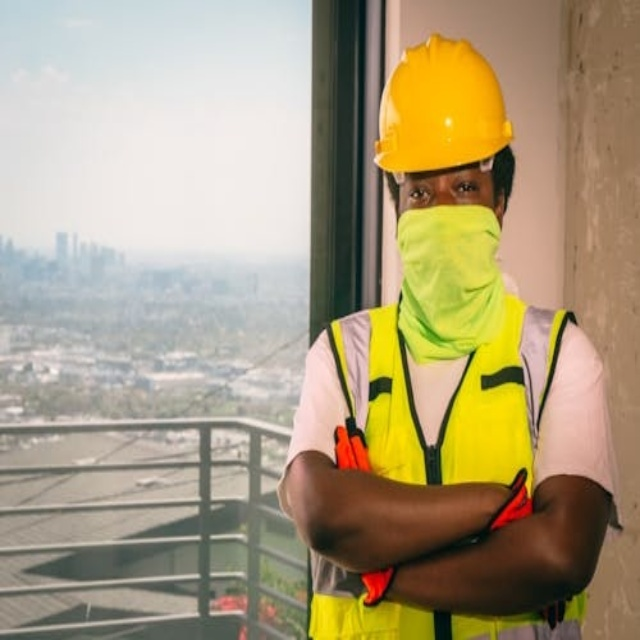Guantes: (467, 470, 548, 631), (335, 423, 392, 606)
Mascara: (396, 203, 508, 359)
Sin_gafas: (402, 166, 483, 208)
